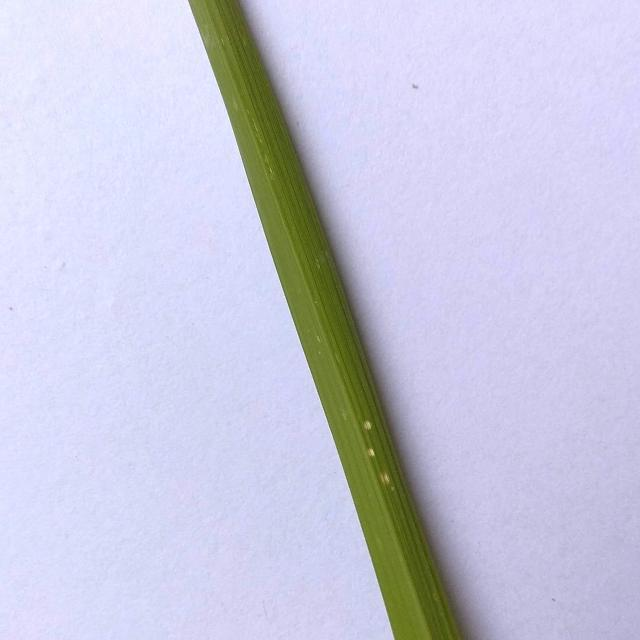Blast: (370, 444, 400, 488), (358, 416, 378, 434)
